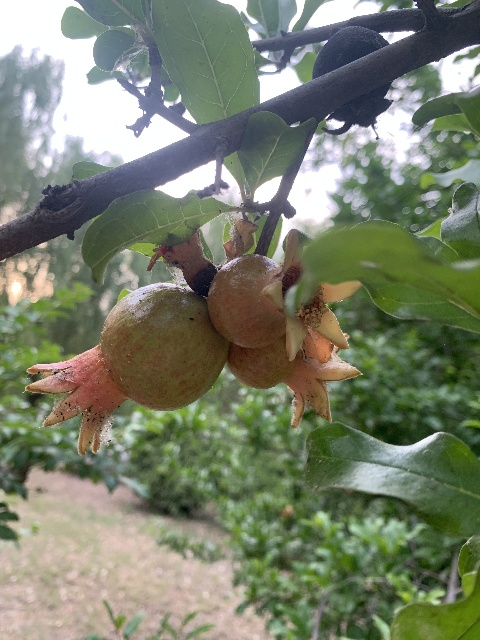early-fruit: (207, 231, 362, 362), (225, 330, 361, 428)
mid-growth: (25, 284, 227, 456)
